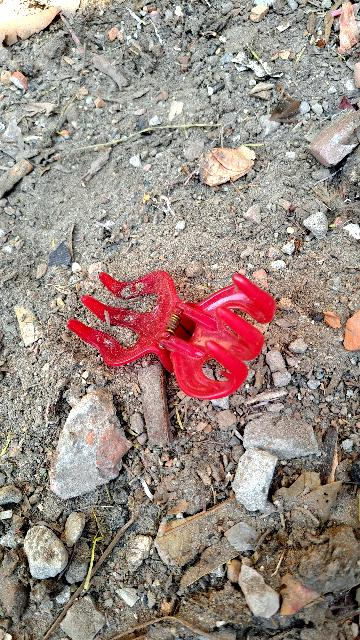hardplastic: (61, 248, 293, 407)
